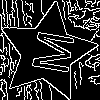M: (22, 27, 75, 76)
